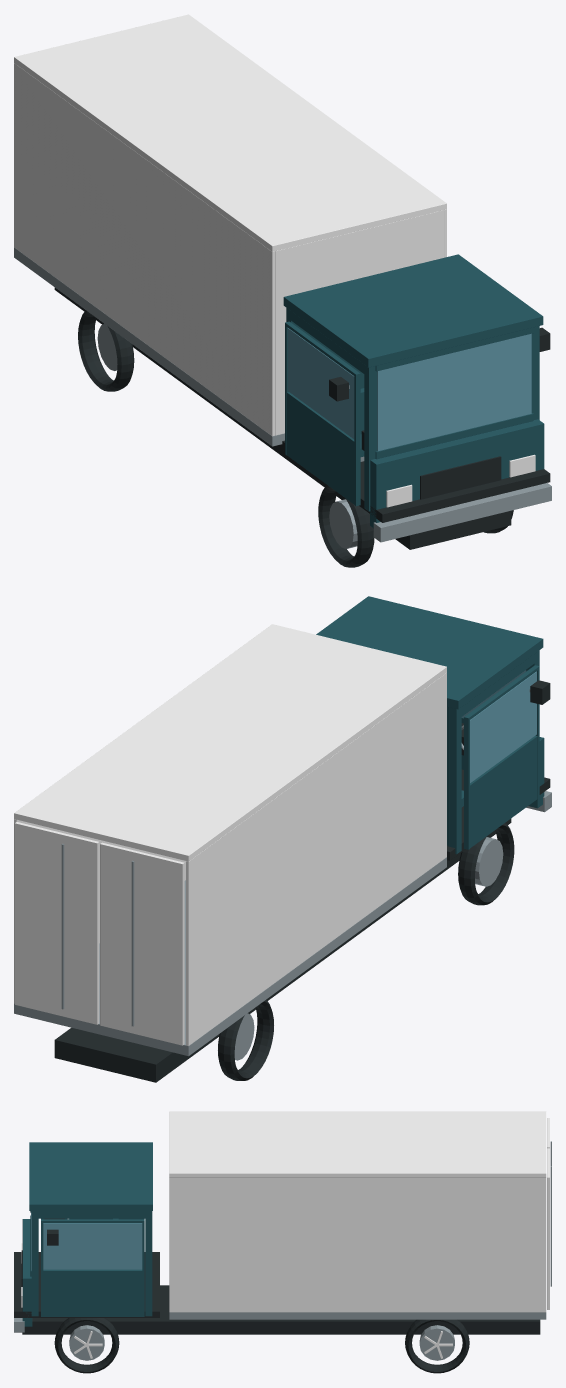
Rendered from source-edit.glb.
The picture shows the model from 3 angles, top to bottom: view 1: azimuth 30°, elevation 25°; view 2: azimuth 150°, elevation 25°; view 3: azimuth 270°, elevation 25°; orthographic projection. The views are drawn at different scales.
Visible parts, largest first — view 1: Cargo_Side.001, Cargo_Roof, Cab_Roof, Windscreen, Cargo_Front, Front_Fascia, Cab_Door_Lower.001, Cab_Door_Pane.001, Front_Bumper, Cargo_Floor, Cab_Floor, Chassis (+10 smaller); view 2: Cargo_Side.001, Cargo_Roof, Loading_Door.001, Loading_Door, Cab_Roof, Chassis, Cargo_Floor, Cab_Door_Lower.001, Cab_Door_Pane.001, Tyre_RL, Tyre_FL, Cab_B_Pillar.001 (+8 smaller); view 3: Cargo_Side, Cargo_Roof, Cab_Roof, Chassis, Cab_Door_Lower, Cab_Door_Pane, Cargo_Floor, Cab_Floor, Tyre_FR, Tyre_RR, Front_Fascia, Hub_FR (+6 smaller).
Boxes of the visible parts, bbox=[...] form: Cargo_Side.001: bbox=[14, 63, 274, 436]; Cargo_Roof: bbox=[14, 14, 446, 251]; Cab_Roof: bbox=[283, 254, 543, 367]; Windscreen: bbox=[377, 333, 531, 451]; Cargo_Front: bbox=[275, 210, 444, 435]; Front_Fascia: bbox=[370, 419, 544, 527]; Cab_Door_Lower.001: bbox=[287, 392, 360, 505]; Cab_Door_Pane.001: bbox=[287, 328, 354, 439]; Front_Bumper: bbox=[373, 483, 551, 542]; Cargo_Floor: bbox=[14, 247, 284, 446]; Cab_Floor: bbox=[282, 440, 550, 522]; Chassis: bbox=[54, 287, 511, 549]; Cargo_Side.001: bbox=[186, 673, 446, 1045]; Cargo_Roof: bbox=[14, 624, 446, 861]; Loading_Door.001: bbox=[14, 822, 99, 1024]; Loading_Door: bbox=[100, 842, 184, 1045]; Cab_Roof: bbox=[316, 596, 543, 709]; Chassis: bbox=[54, 818, 511, 1082]; Cargo_Floor: bbox=[14, 857, 446, 1056]; Cab_Door_Lower.001: bbox=[464, 735, 537, 849]; Cab_Door_Pane.001: bbox=[470, 671, 536, 782]; Tyre_RL: bbox=[218, 1000, 273, 1080]; Tyre_FL: bbox=[458, 823, 514, 905]; Cab_B_Pillar.001: bbox=[448, 707, 461, 854]; Cargo_Side: bbox=[169, 1178, 546, 1312]; Cargo_Roof: bbox=[169, 1111, 546, 1177]; Cab_Roof: bbox=[29, 1142, 152, 1210]; Chassis: bbox=[22, 1285, 540, 1334]; Cab_Door_Lower: bbox=[43, 1269, 142, 1316]; Cab_Door_Pane: bbox=[43, 1223, 142, 1269]; Cargo_Floor: bbox=[169, 1312, 546, 1319]; Cab_Floor: bbox=[14, 1252, 159, 1317]; Tyre_FR: bbox=[54, 1318, 119, 1373]; Tyre_RR: bbox=[405, 1319, 469, 1373]; Front_Fascia: bbox=[22, 1219, 32, 1326]; Hub_FR: bbox=[69, 1325, 104, 1360].
Bounding box in the file's own units: 3.05 × 3.84 × 9.14.
